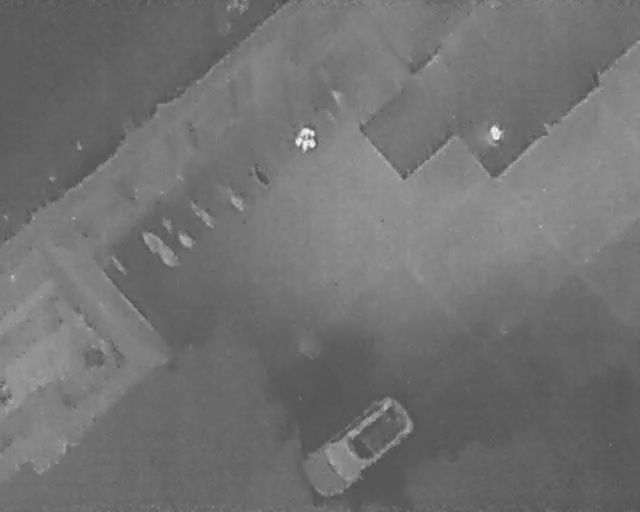Bicycle: (136, 222, 183, 272), (158, 210, 199, 253), (183, 193, 220, 235), (220, 181, 249, 214), (248, 162, 274, 191)
Car: (288, 386, 425, 506)
Person: (294, 126, 317, 151), (489, 123, 503, 142)
